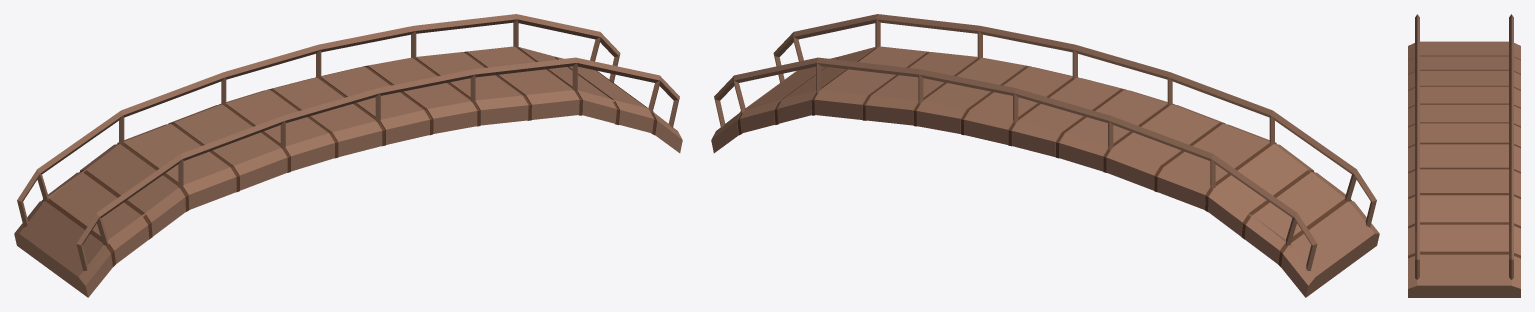
Rendered from bridge.fbx.
3 views of the same model, side by side, from view 1: azimuth 30°, elevation 25°; view 2: azimuth 150°, elevation 25°; view 3: azimuth 270°, elevation 25° (orthographic). The views are drawn at different scales.
Visible parts, largest first — view 1: Plane, Plane.001; view 2: Plane, Plane.001; view 3: Plane, Plane.001.
Boxes of the visible parts, x1,y1,x2,y2 form: Plane: (14,46,682,297); Plane.001: (17,14,679,270); Plane: (711,46,1379,297); Plane.001: (714,14,1376,270); Plane: (1408,41,1520,297); Plane.001: (1415,14,1513,279).
Size of the model in its own units: 1648 by 348 by 338.
